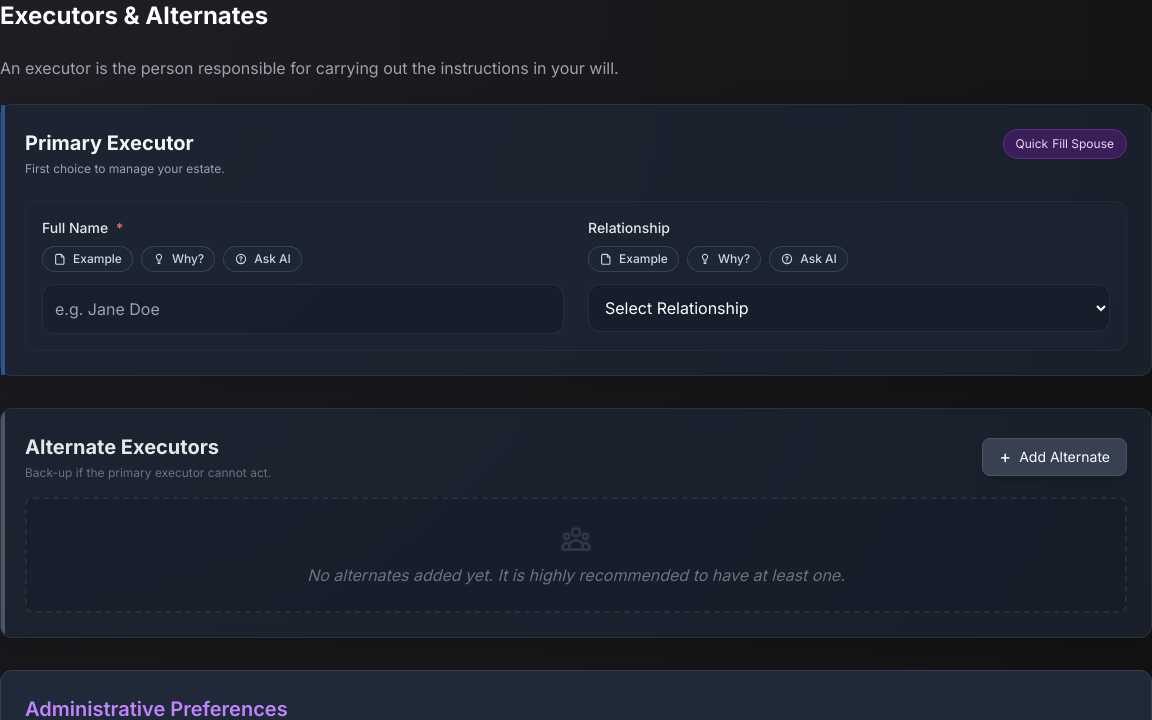
Test case: Executors.vue › excludes the client and already-used alternates from primary autocomplete suggestions
The width and height of the screenshot is (1152, 720).
Click the button "+ Add Alternate" at (1055, 457), box [982,438,1127,476]
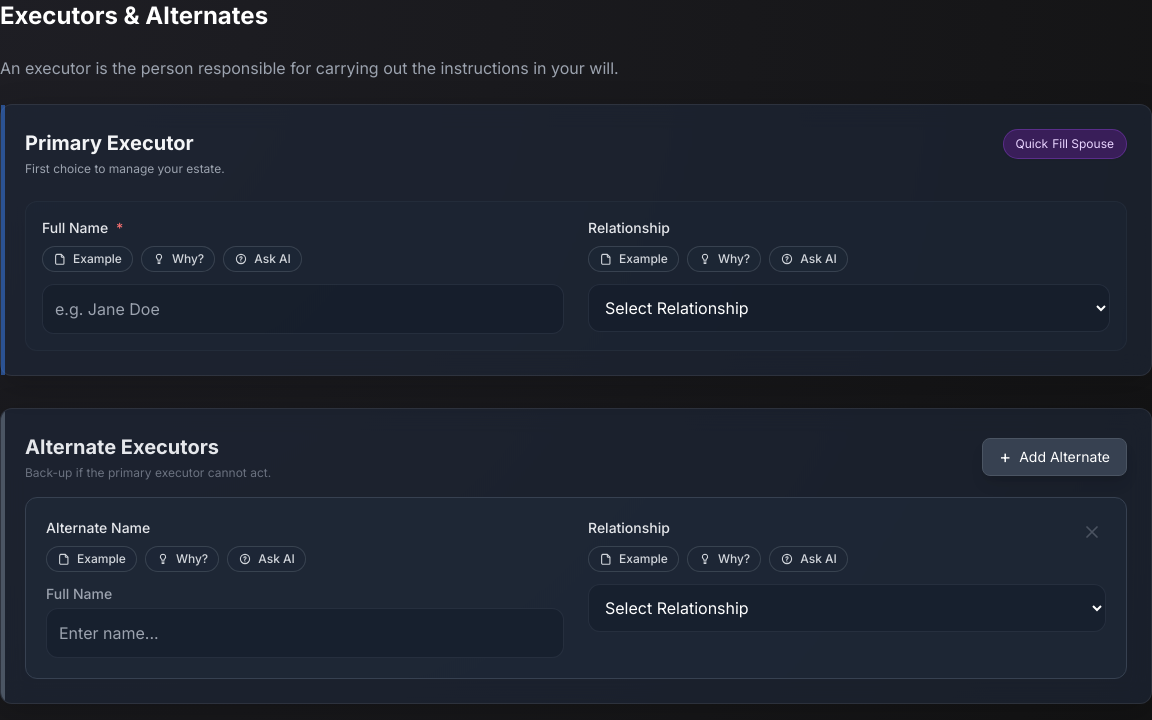
Type "Morgan Doe" into the field with placeholder "Enter name..." at (305, 633), box [46,608,564,658]
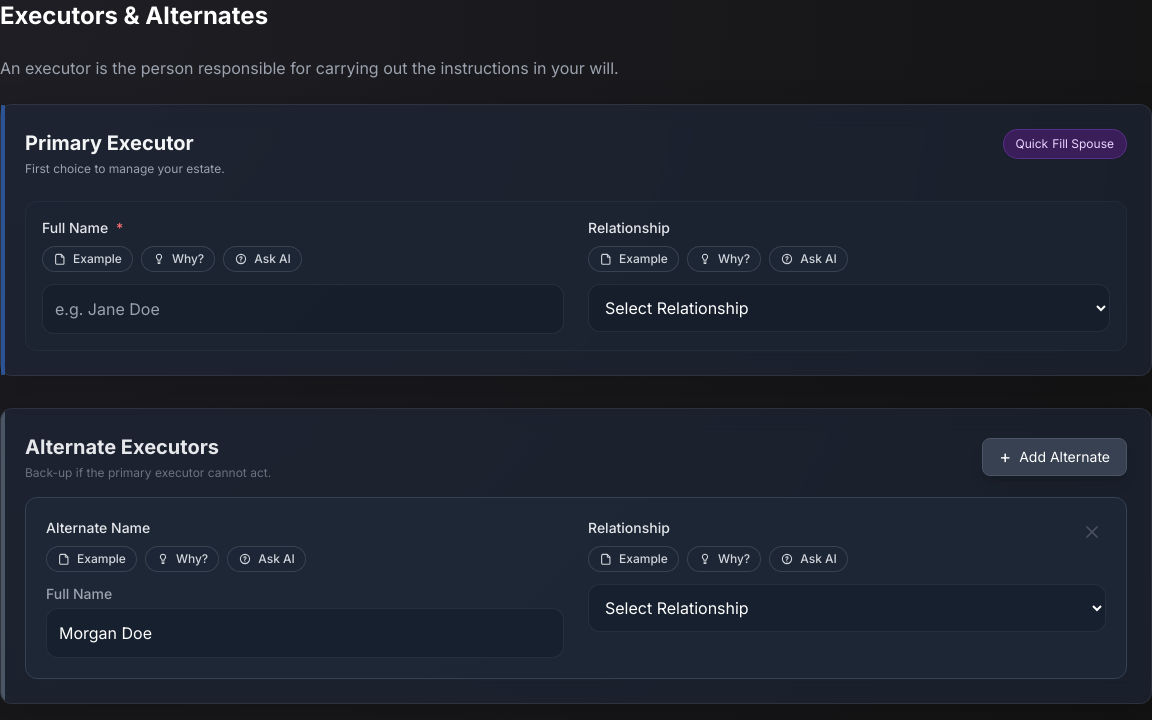
Select "Sibling" in the 2nd dropdown at (847, 608), box [588,584,1106,632]
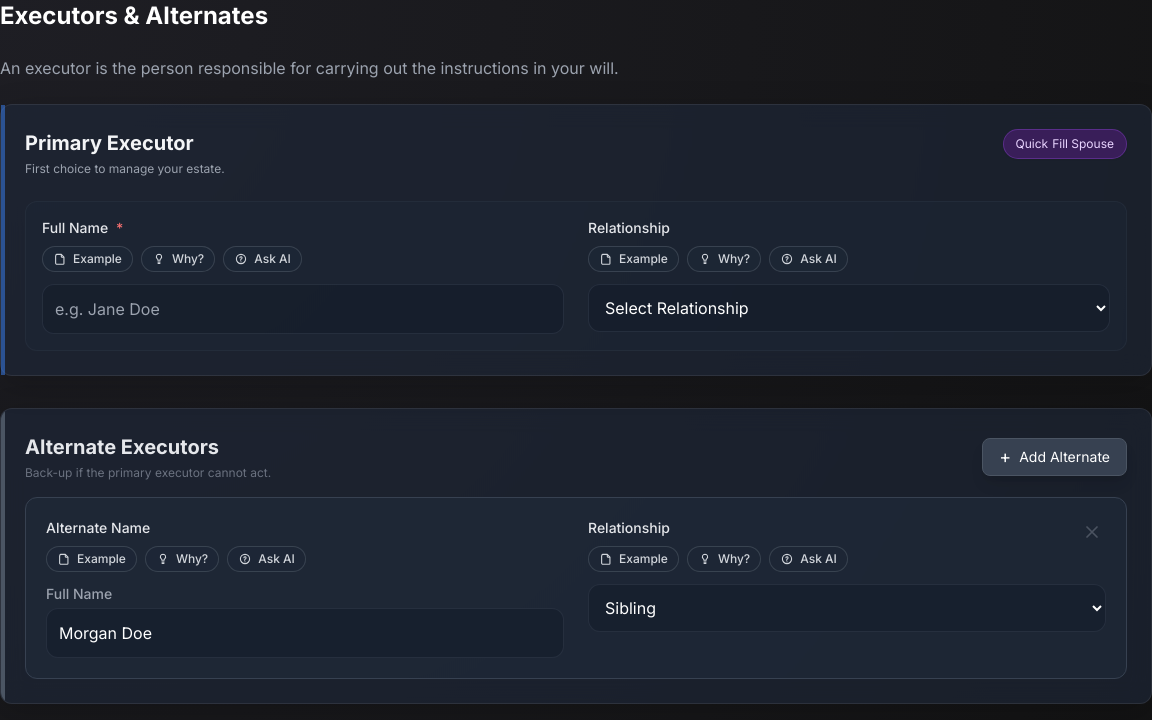
Focus the field labelled "Full Name *" at (303, 309), box [42,284,564,334]
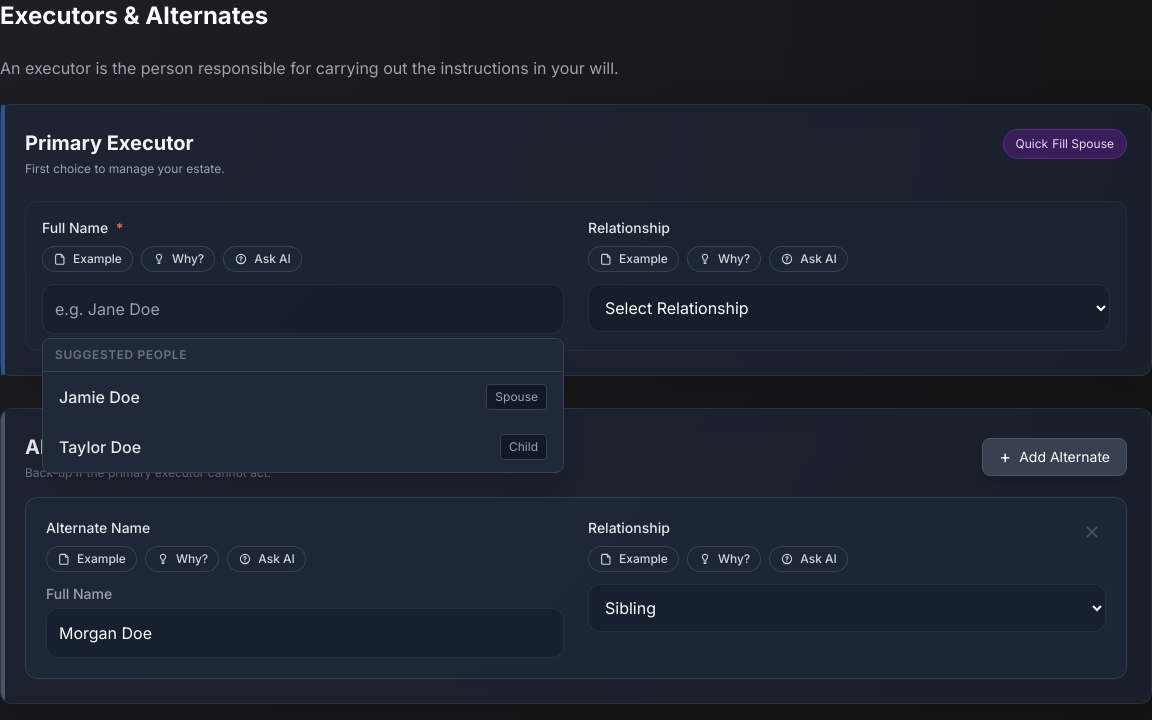
Check: the text "Morgan Doe" is not shown
Check: the text "Jamie Doe" is shown, box [59,385,140,409]
